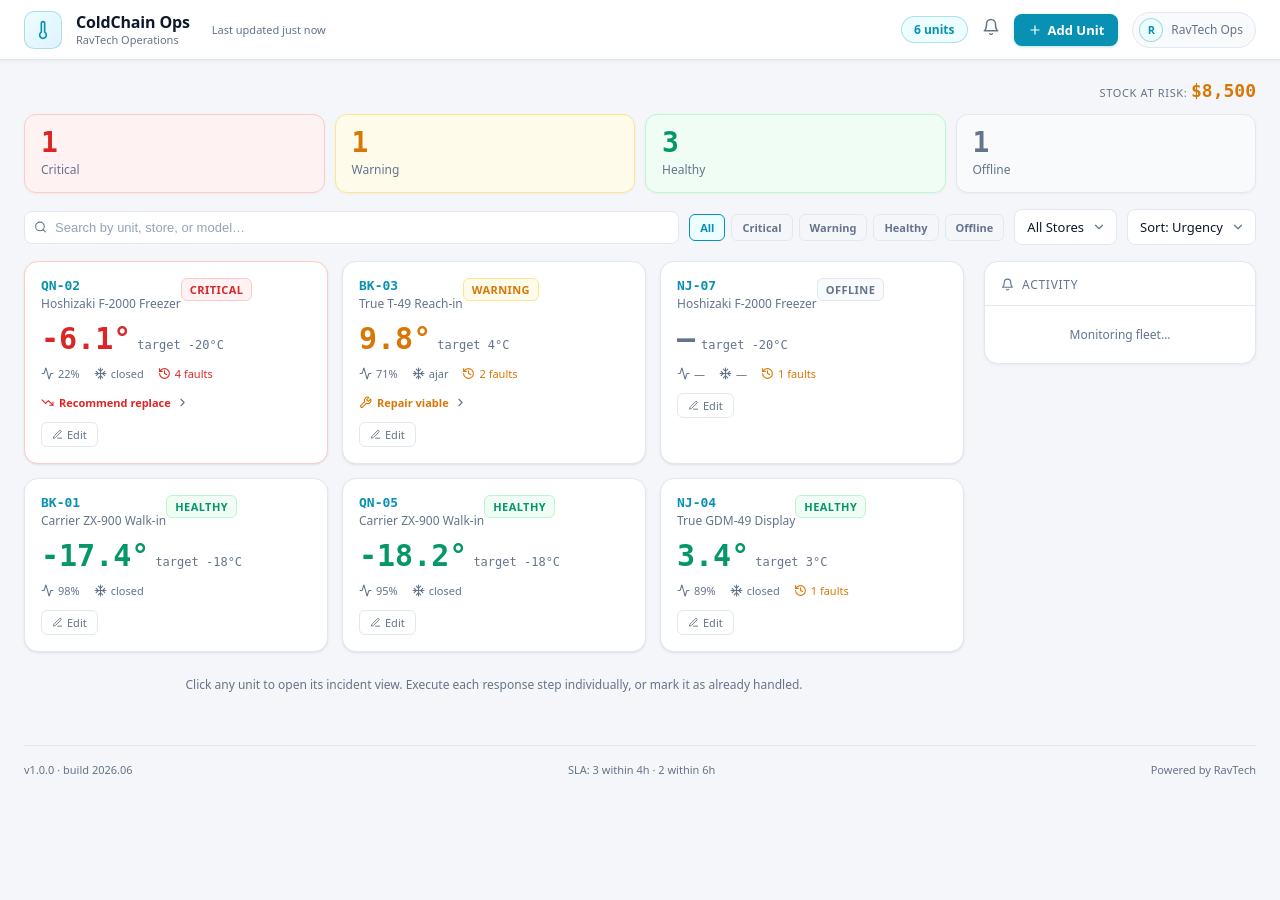
Test: ColdChainDashboard — incident playbook interaction › recommends repair for the still-viable BK-03 unit
Expected: the text "QN-02" is shown, [41,278,80,293]
Click the button with aria-label "BK-03 — Brooklyn — Atlantic Ave, True T-49 Reach-in, status:".
click(379, 286)  # box [342,261,646,464]
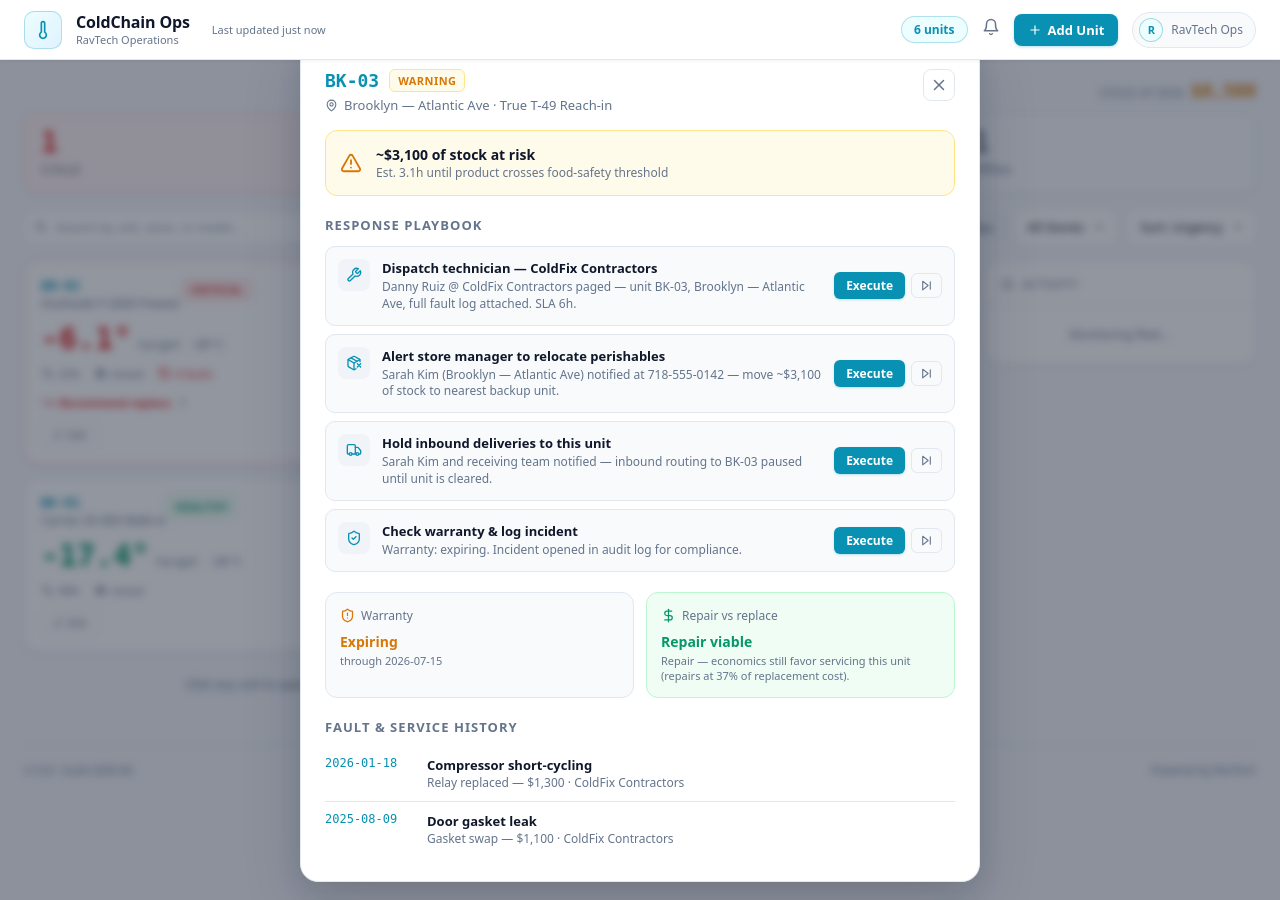
Expected: the text "Repair viable" is shown, [661,632,752,651]
